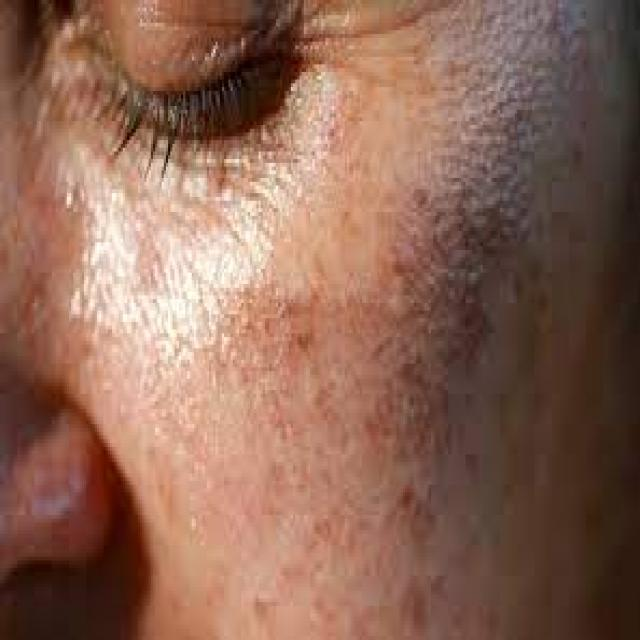pigmentation: (338, 91, 550, 471)
